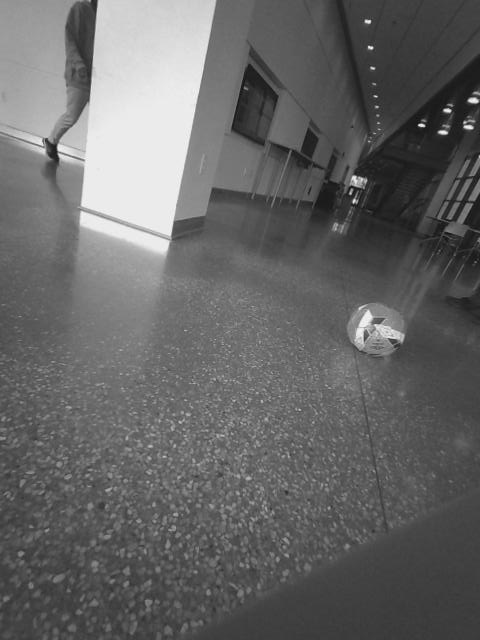ball: (343, 299, 408, 361)
